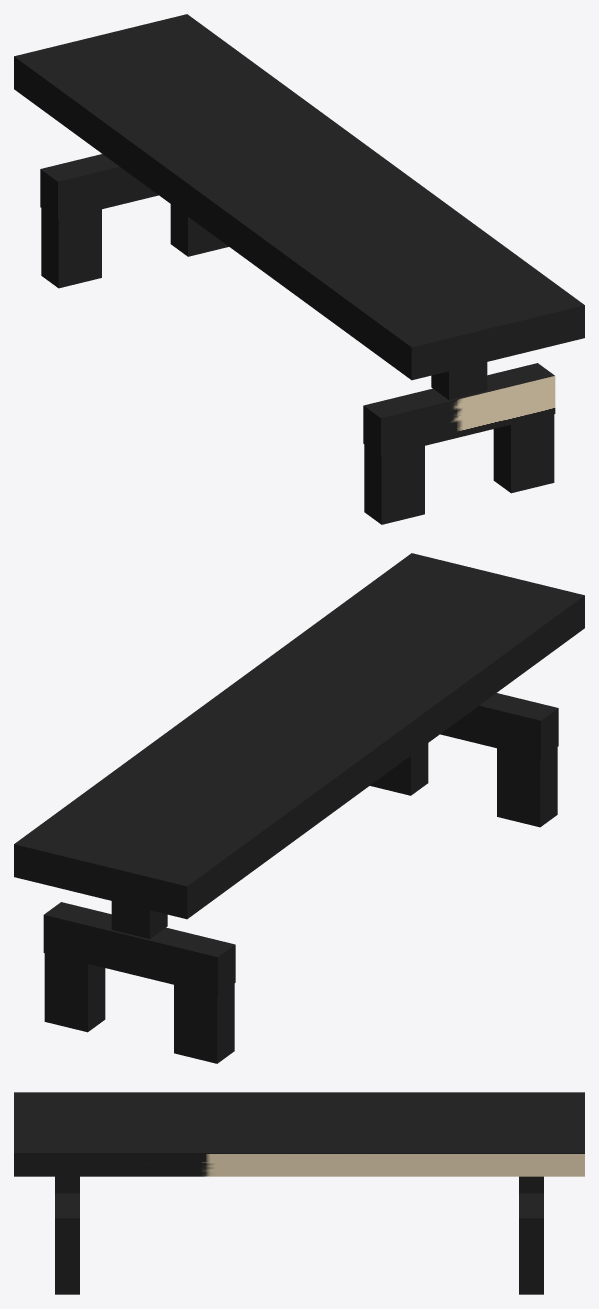
File: Meal_Chair.fbx
3 views of the same model, one above another, from view 1: azimuth 30°, elevation 25°; view 2: azimuth 150°, elevation 25°; view 3: azimuth 270°, elevation 25° (orthographic). The views are drawn at different scales.
Parts seen in each view (by area): view 1: Cube; view 2: Cube; view 3: Cube.
Part boxes in pixels (<box>): Cube: <box>14,14,584,524</box>; Cube: <box>14,553,584,1063</box>; Cube: <box>14,1092,584,1294</box>.
Bounding box in the file's own units: 216 × 232 × 846.
